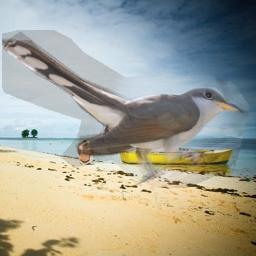Cuckoo: (2, 30, 249, 188)
